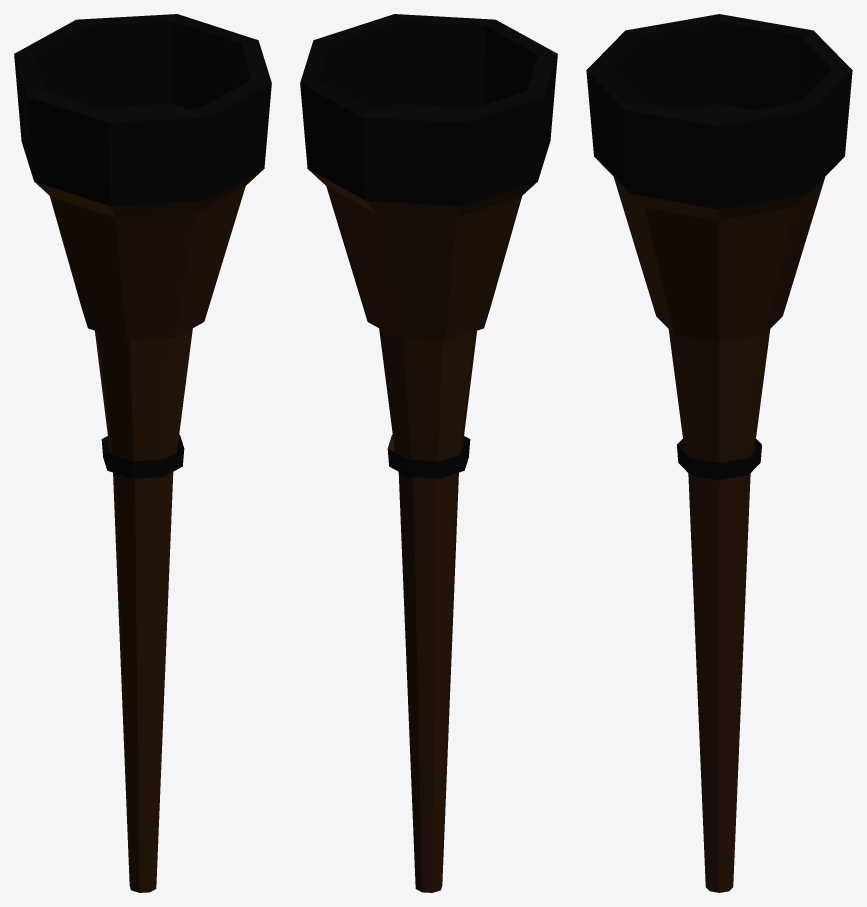
The model's file is Meşale.fbx.
The picture shows the model from 3 angles, left to right: view 1: azimuth 30°, elevation 25°; view 2: azimuth 150°, elevation 25°; view 3: azimuth 270°, elevation 25°; orthographic projection.
Visible parts, largest first — view 1: Cylinder; view 2: Cylinder; view 3: Cylinder.
Boxes of the visible parts, bbox=[...] form: Cylinder: bbox=[14, 14, 271, 892]; Cylinder: bbox=[300, 14, 557, 892]; Cylinder: bbox=[586, 14, 852, 892].
Bounding box in the file's own units: 400 × 1355 × 400.
